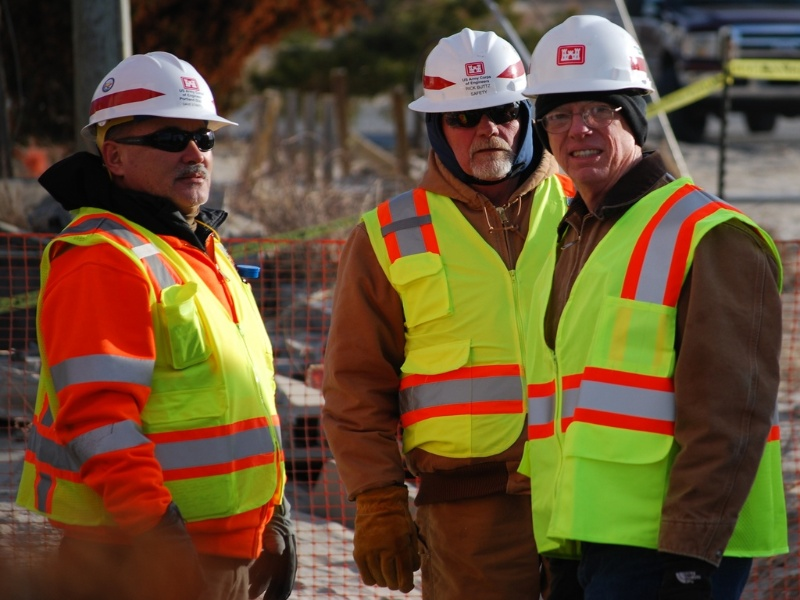Baret: (80, 48, 242, 135), (522, 12, 657, 104), (409, 28, 532, 108)
